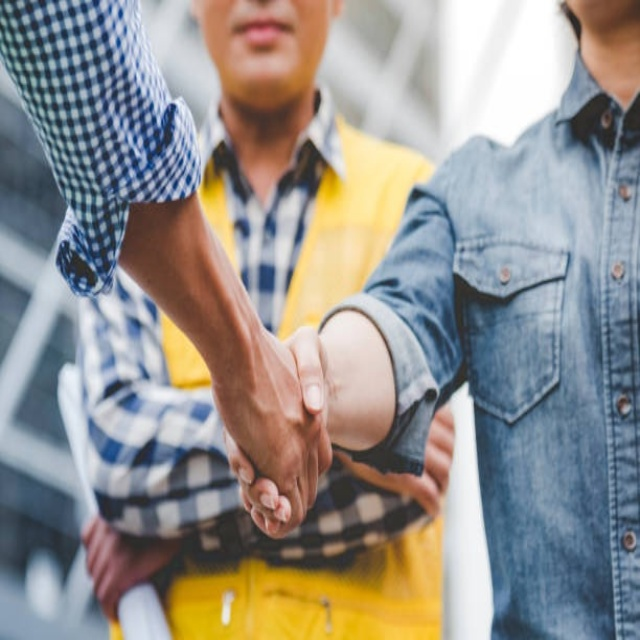Sin_guantes: (214, 317, 335, 540), (80, 510, 178, 620), (412, 402, 457, 518)
Sin_mascara: (221, 8, 307, 77)
